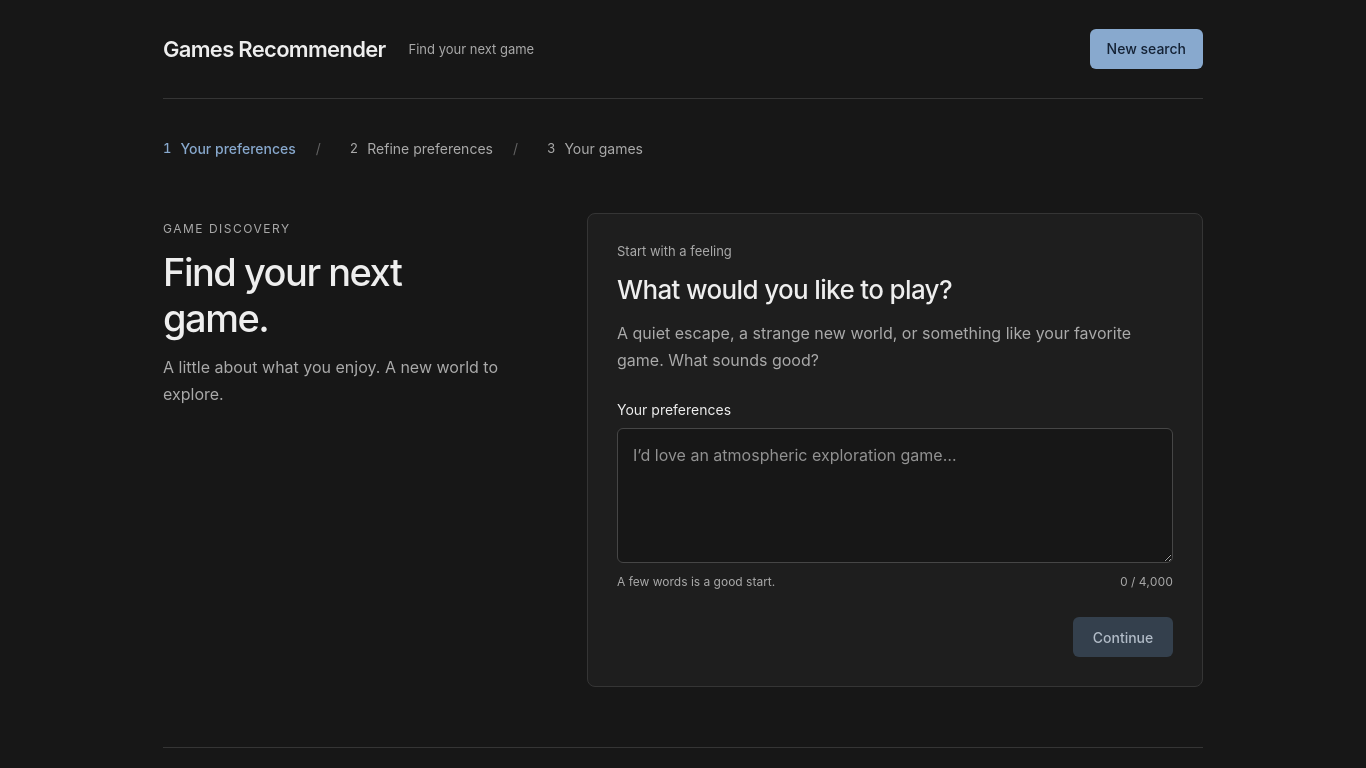
Test: Guided Games Recommender › recovers from HTTP 404 with a new editable search rather than replaying the failed turn
Step 1. Type "An exploration game." into the text box → (895, 496), box top-left (617, 428), bottom-right (1173, 564)
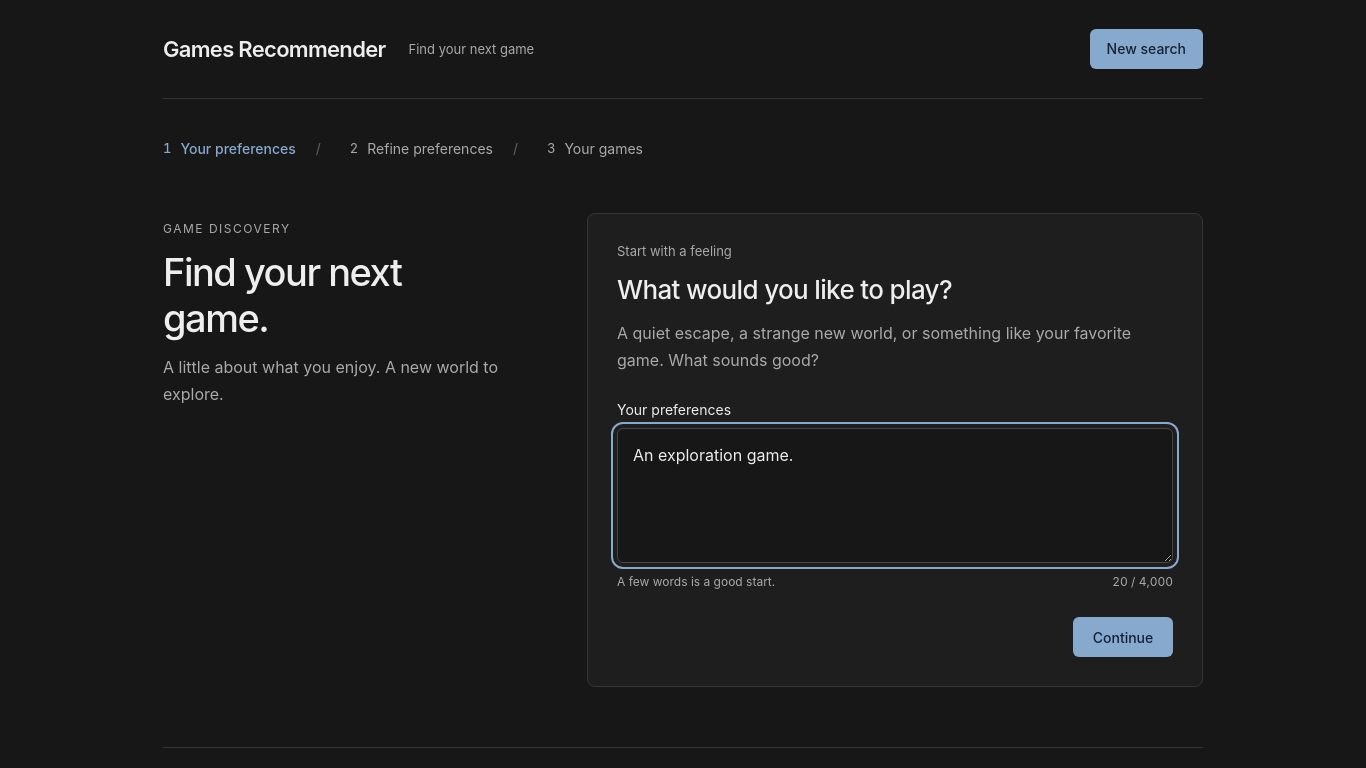
Step 2. Click the button "Continue" → (1123, 638), box top-left (1073, 618), bottom-right (1173, 658)
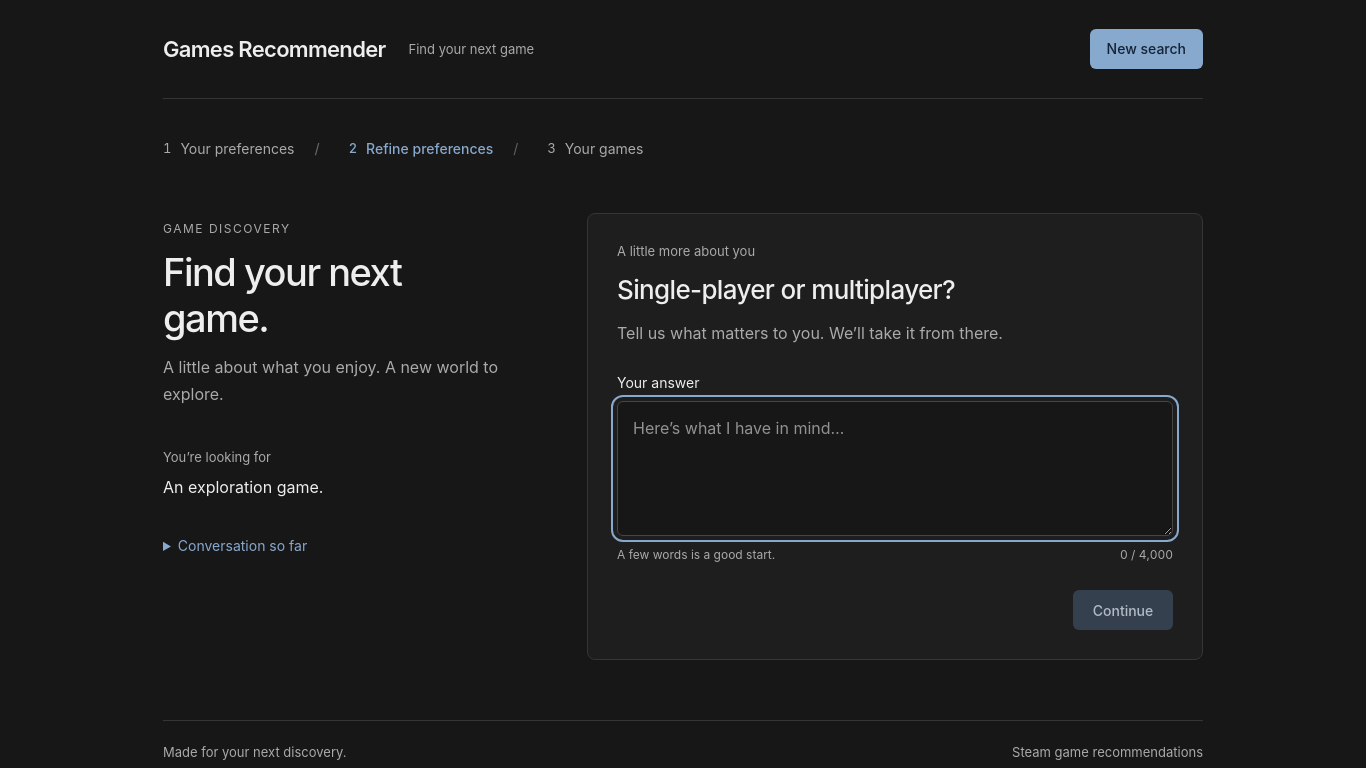
Expected: the heading "Single-player or multiplayer?" is shown, top-left (617, 274), bottom-right (955, 305)
Step 3. Type "Single-player." into the text box → (895, 469), box top-left (617, 401), bottom-right (1173, 536)
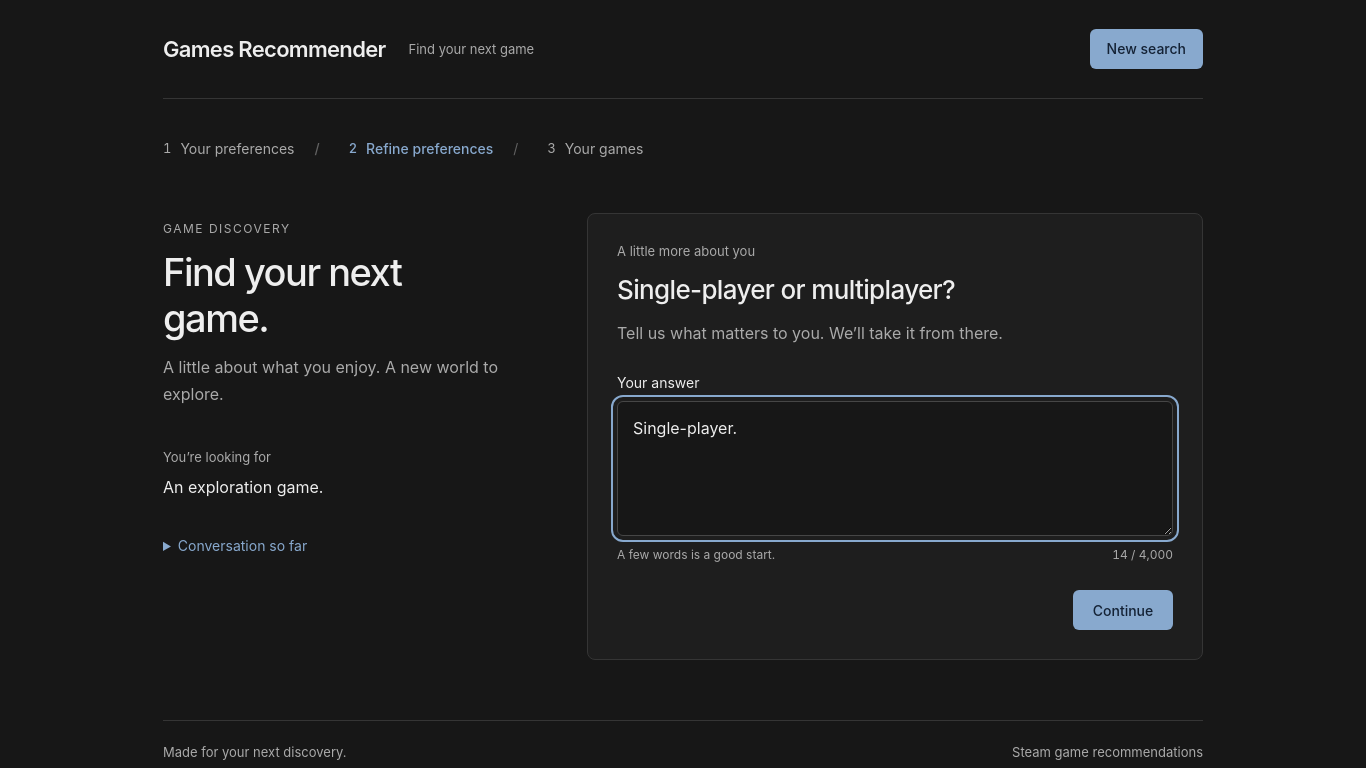
Step 4. Click the button "Continue" → (1123, 610), box top-left (1073, 590), bottom-right (1173, 630)
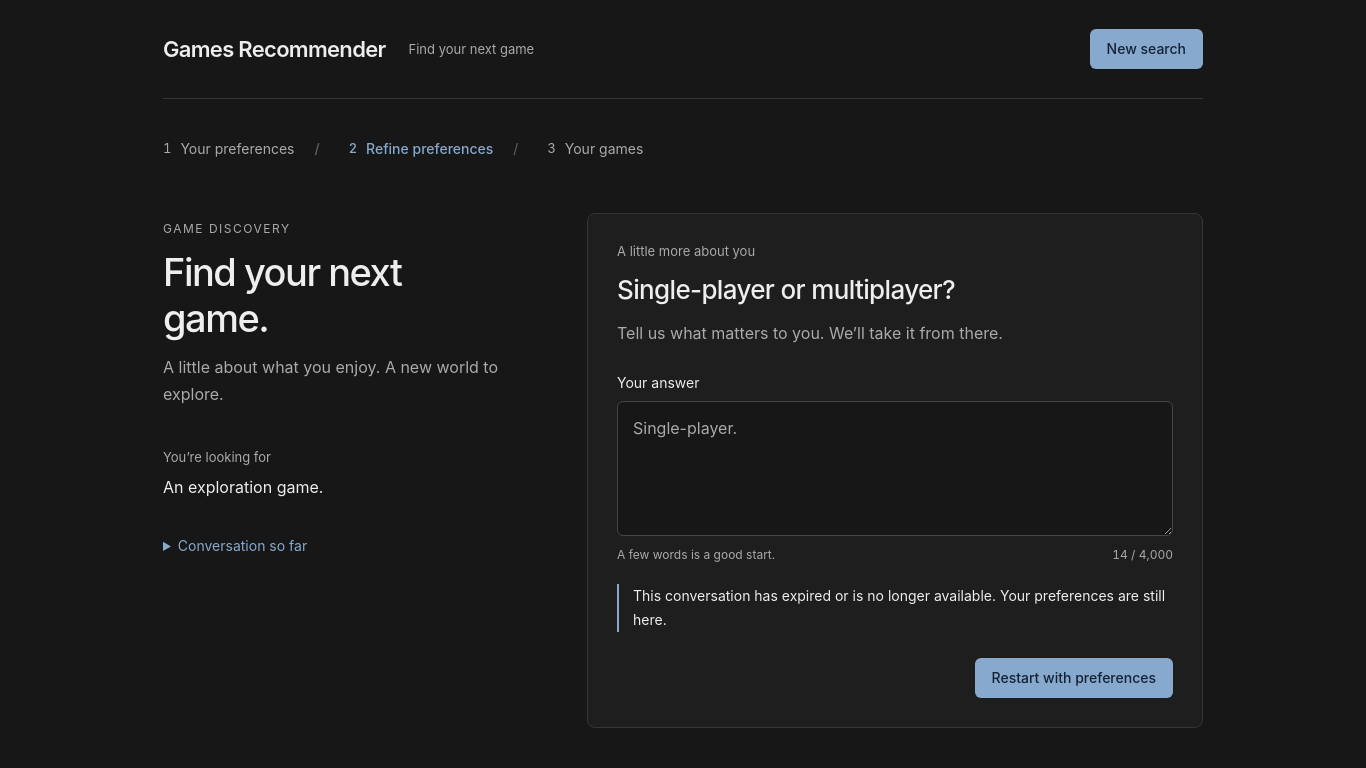
Expected: the message is shown, top-left (617, 584), bottom-right (1173, 632)
Step 5. Click the button "Restart with preferences" → (1074, 678), box top-left (974, 658), bottom-right (1173, 698)
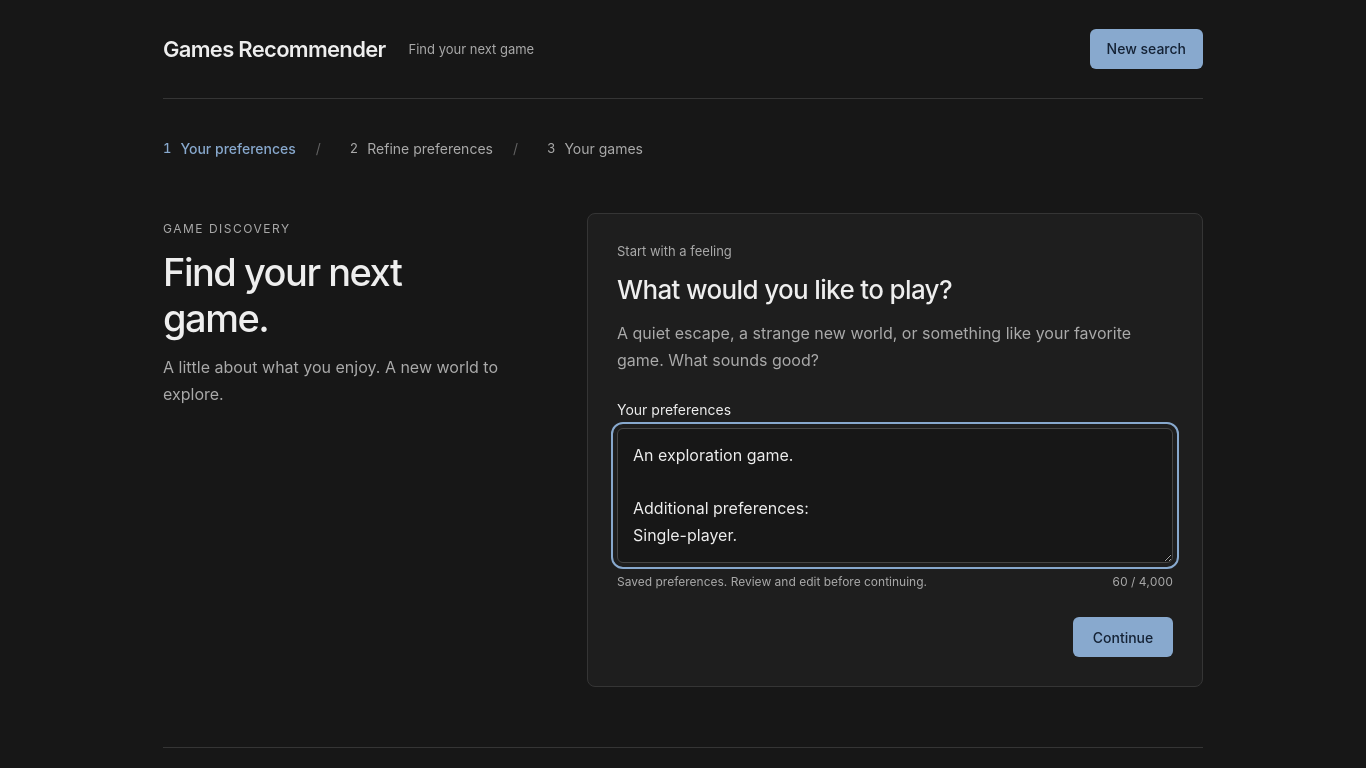
Step 6. Click the button "Continue" → (1123, 638), box top-left (1073, 618), bottom-right (1173, 658)
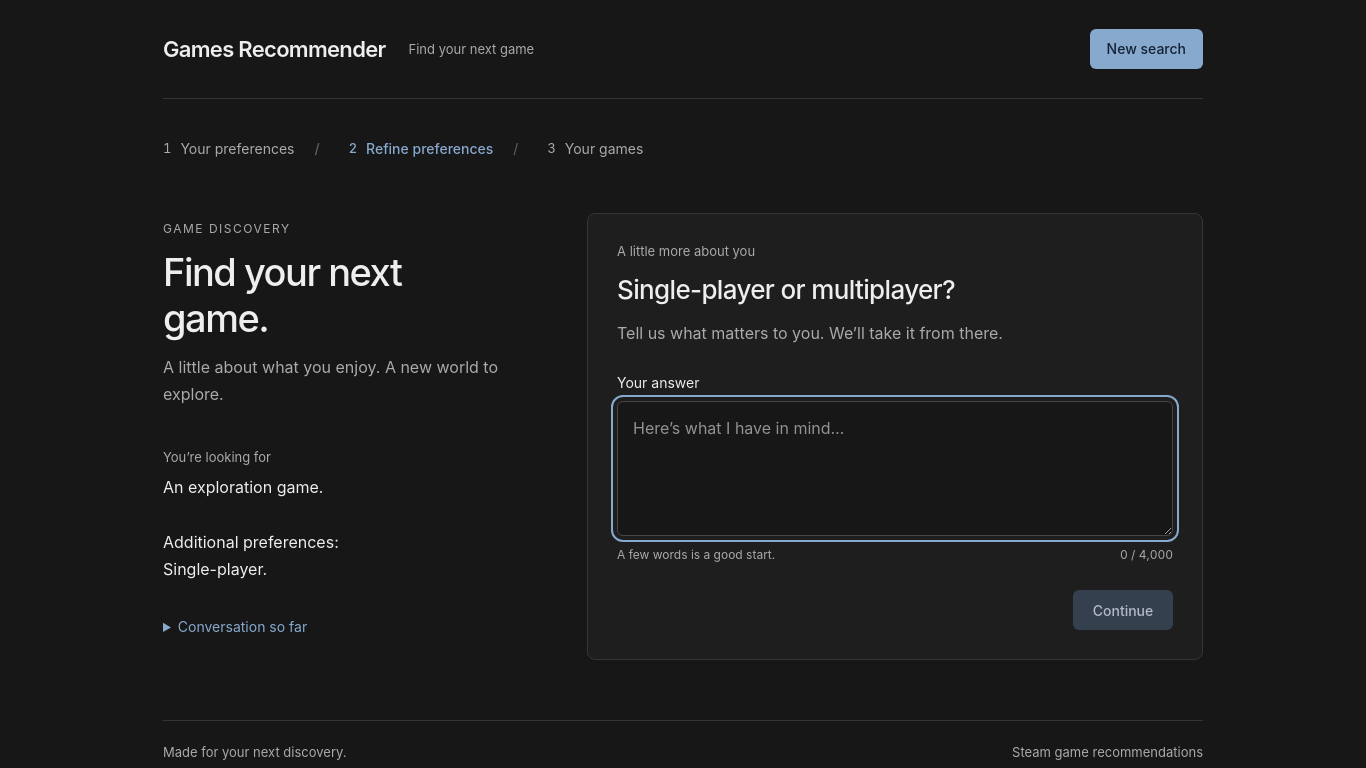
Expected: the heading "Single-player or multiplayer?" is shown, top-left (617, 274), bottom-right (955, 305)
